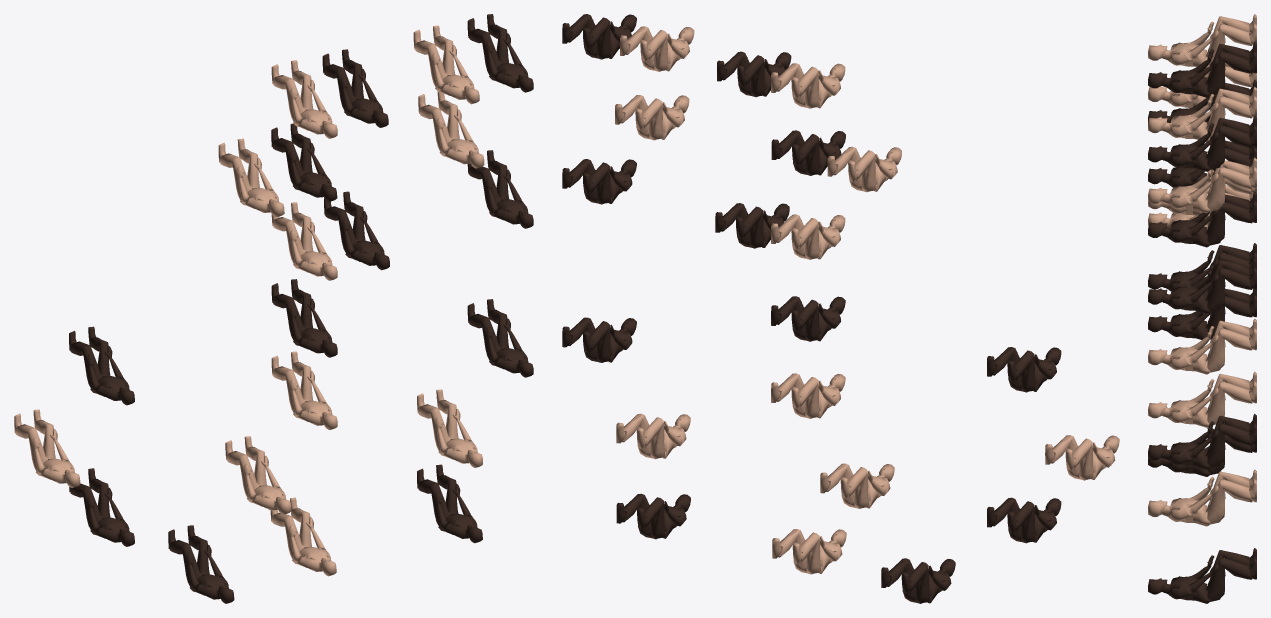
Rendered from theatrePeople.obj.
The picture shows the model from 3 angles, left to right: view 1: azimuth 30°, elevation 25°; view 2: azimuth 150°, elevation 25°; view 3: azimuth 270°, elevation 25°; orthographic projection. The views are drawn at different scales.
Visible parts, largest first — view 1: Object.021_Object.038; view 2: Object.021_Object.038; view 3: Object.021_Object.038.
Part boxes in pixels (box(x1,y1,x2,y2)): Object.021_Object.038: box(14, 14, 533, 603); Object.021_Object.038: box(562, 14, 1119, 603); Object.021_Object.038: box(1148, 14, 1256, 603).
Size of the model in its own units: 77.78 by 74.29 by 14.46.
